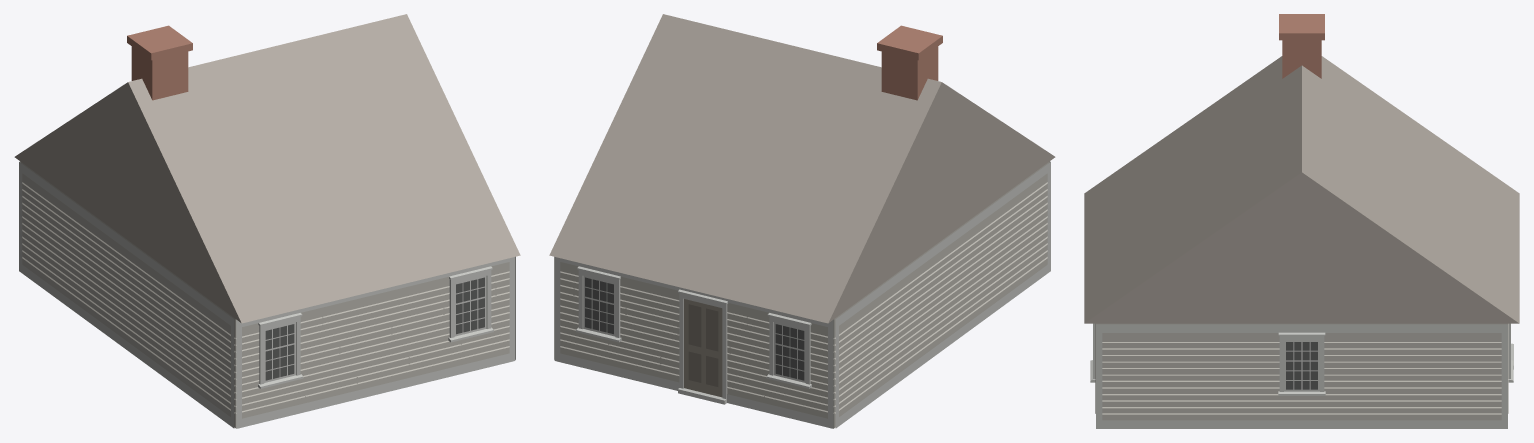
File: recon_1835_blk_randolph_dearborn_d4_03__inferred_1835.glb
3 renders of one model, left to right at view 1: azimuth 30°, elevation 25°; view 2: azimuth 150°, elevation 25°; view 3: azimuth 270°, elevation 25°, orthographic. The views are drawn at different scales.
Visible parts, largest first — view 1: recon_1835_blk_randolph_dearborn_d4_03__inferred_1835; view 2: recon_1835_blk_randolph_dearborn_d4_03__inferred_1835; view 3: recon_1835_blk_randolph_dearborn_d4_03__inferred_1835.
Boxes of the visible parts, x1,y1,x2,y2 form: recon_1835_blk_randolph_dearborn_d4_03__inferred_1835: (14,14,520,428); recon_1835_blk_randolph_dearborn_d4_03__inferred_1835: (549,14,1055,428); recon_1835_blk_randolph_dearborn_d4_03__inferred_1835: (1084,14,1519,428).
Bounding box in the file's own units: 6.7 × 6.78 × 9.25.
